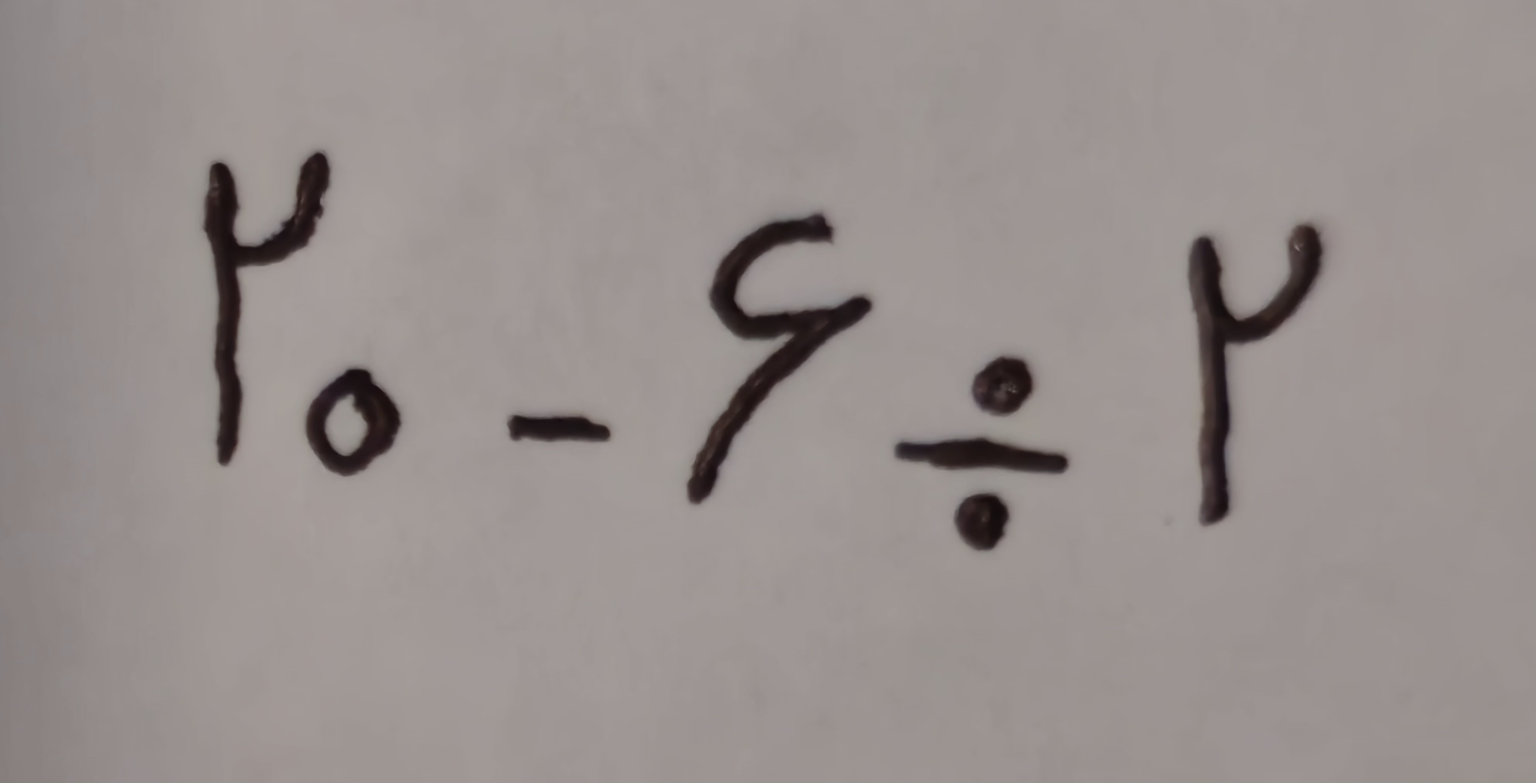character: (683, 210, 875, 506), (202, 146, 338, 460), (1188, 222, 1326, 529), (893, 355, 1070, 555), (302, 364, 405, 483), (505, 410, 610, 443)
